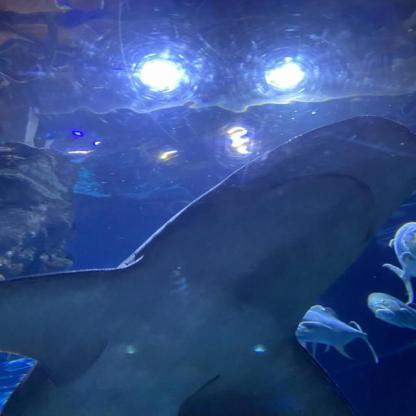fish: (289, 304, 379, 364), (384, 221, 416, 306), (368, 292, 416, 330)
shark: (0, 113, 415, 415)
